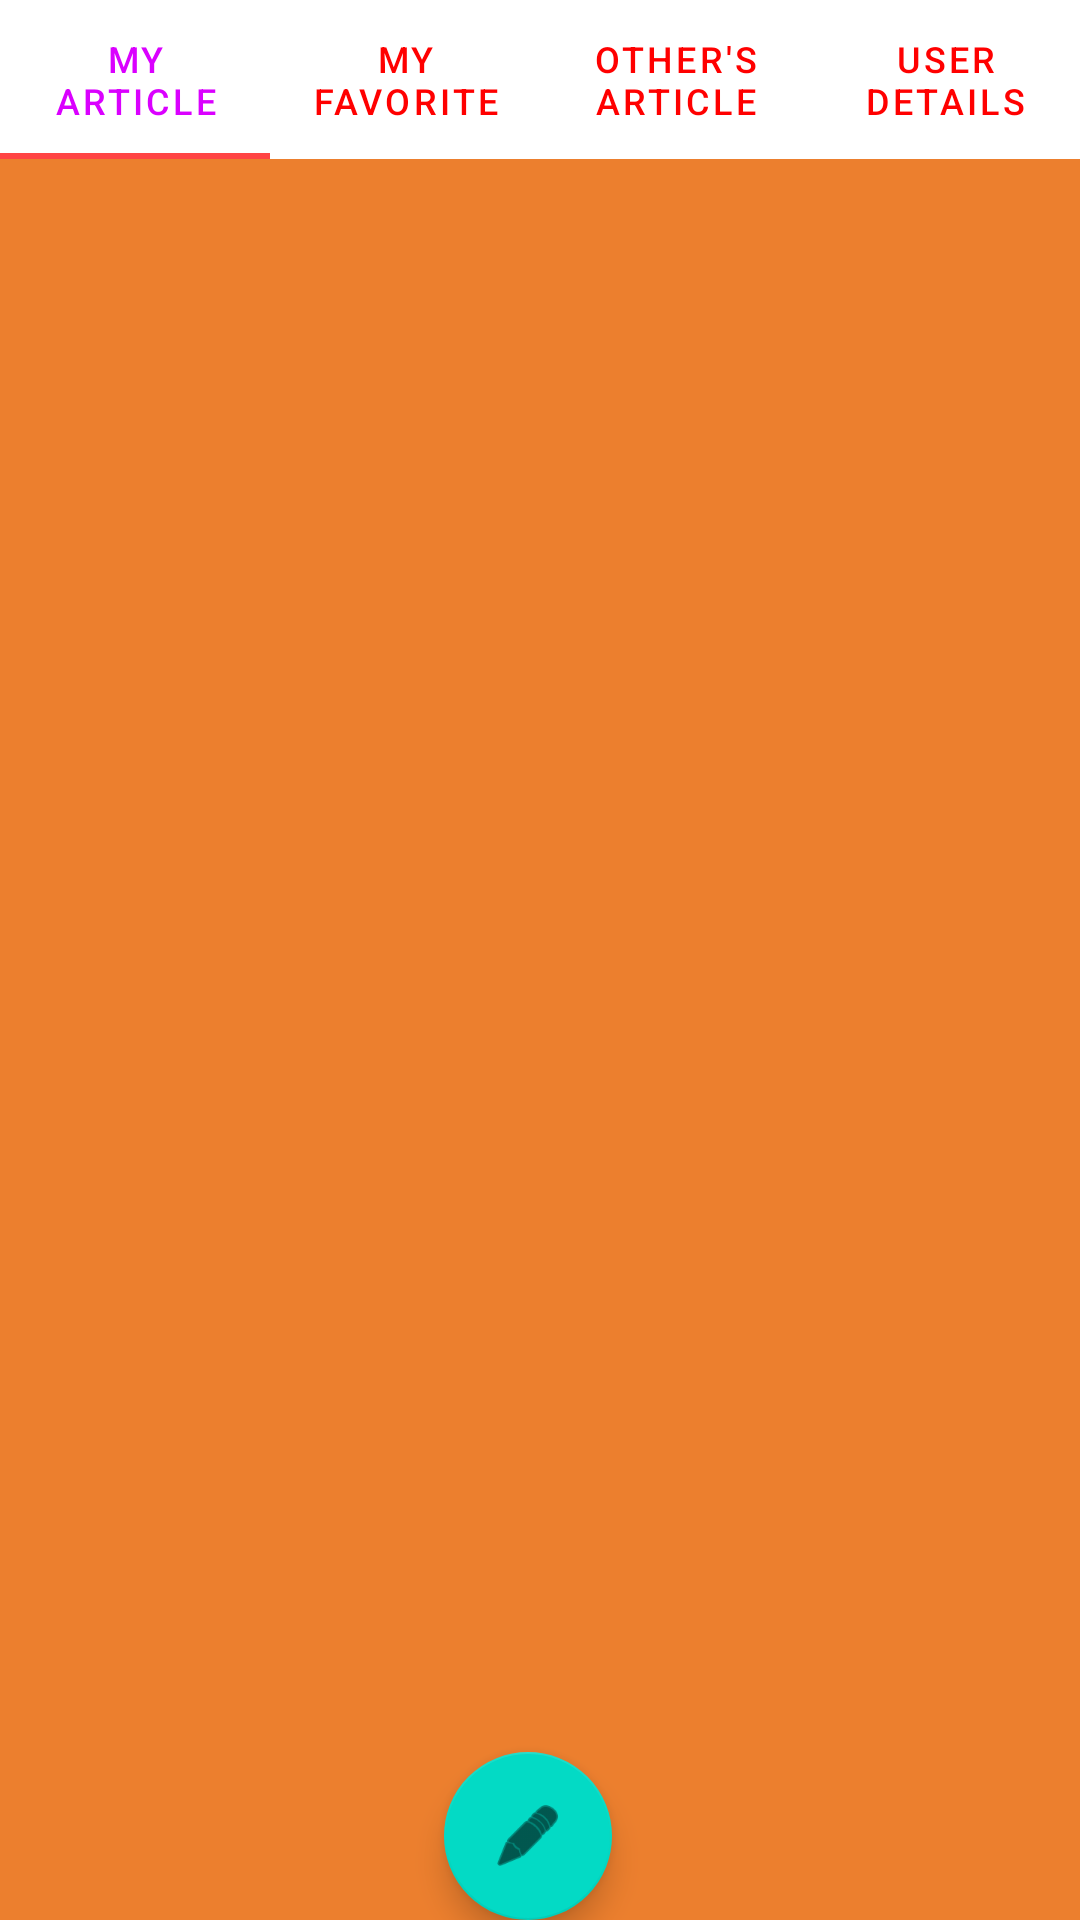

Screen size 1080px×1920px. Icon name, then its center in pixels as point (x, y):
edit: point (528, 1836)
